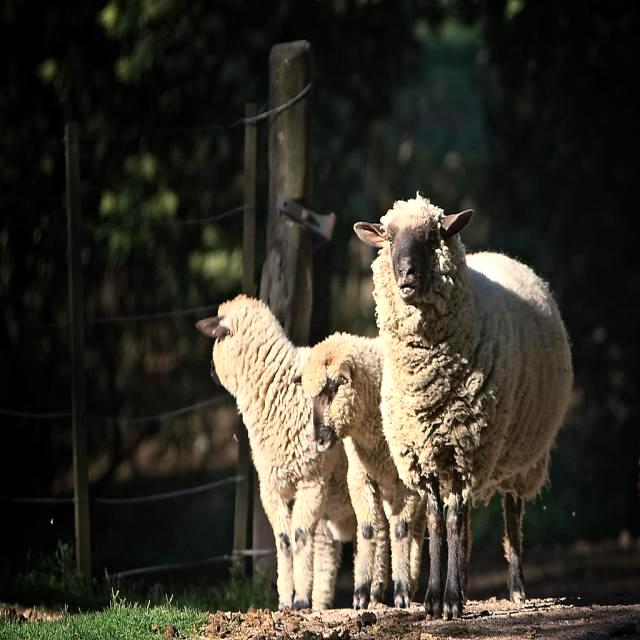sheep: (357, 191, 573, 588), (197, 294, 356, 611), (302, 333, 426, 608)
